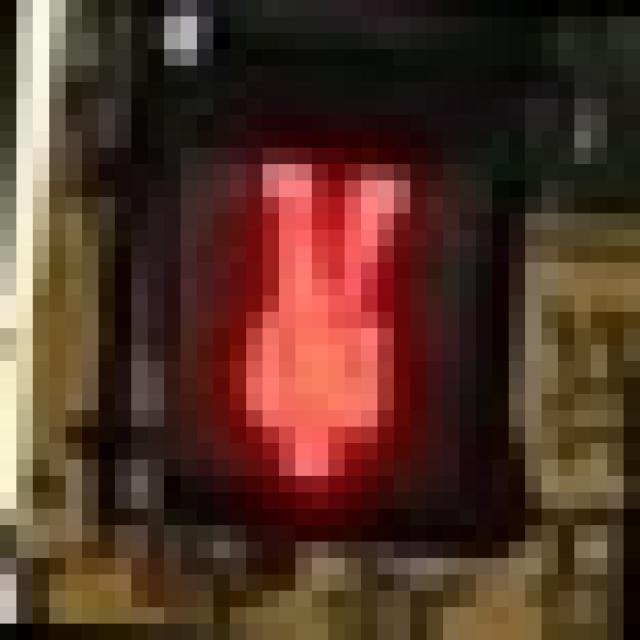red-crossing: (99, 82, 492, 525)
